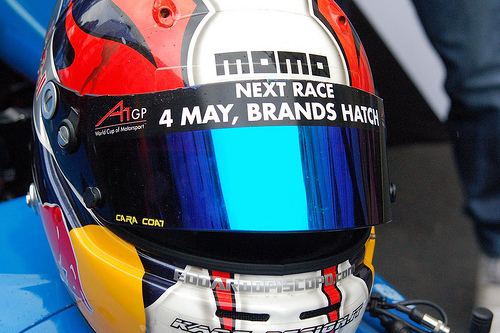helmet: (34, 2, 400, 326)
